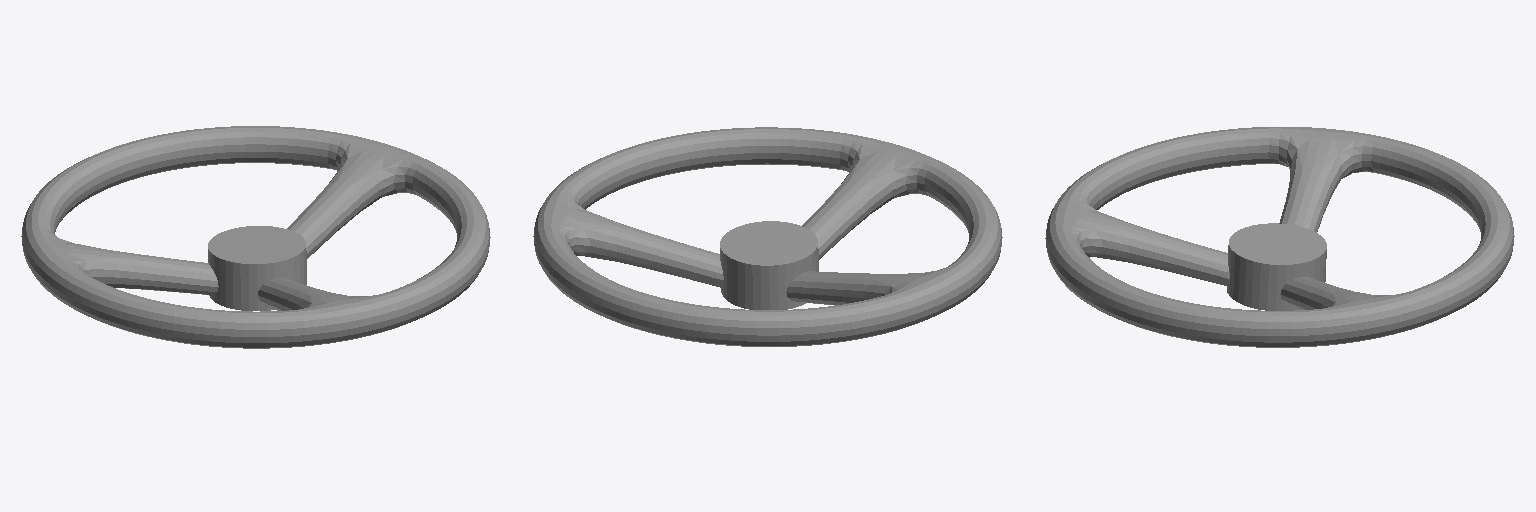
Rendered from stapler_lenkrad.obj.
3 views of the same model, side by side, from view 1: azimuth 30°, elevation 25°; view 2: azimuth 150°, elevation 25°; view 3: azimuth 270°, elevation 25° (orthographic).
Parts seen in each view (by area): view 1: lenkrad_Cylinder.001; view 2: lenkrad_Cylinder.001; view 3: lenkrad_Cylinder.001.
Part boxes in pixels (left/top/right/bottom): lenkrad_Cylinder.001: left=21, top=126, right=490, bottom=348; lenkrad_Cylinder.001: left=533, top=127, right=1002, bottom=346; lenkrad_Cylinder.001: left=1045, top=127, right=1514, bottom=347.
Bounding box in the file's own units: 1.72 × 0.2946 × 1.72.